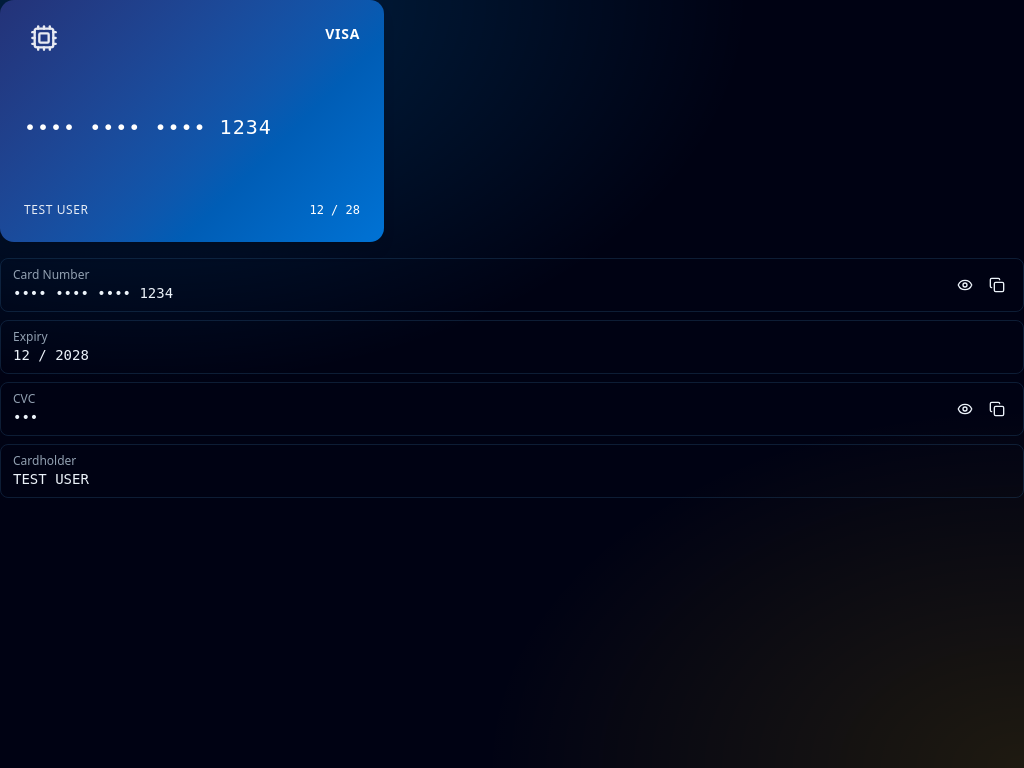
Scenario: CreditCardDetail › D4: unmount 시 카드번호 reveal 타이머 정리됨
The image size is (1024, 768).
Click the button named "reveal card number".
click(965, 285)  # box x1=951 y1=271 x2=979 y2=299
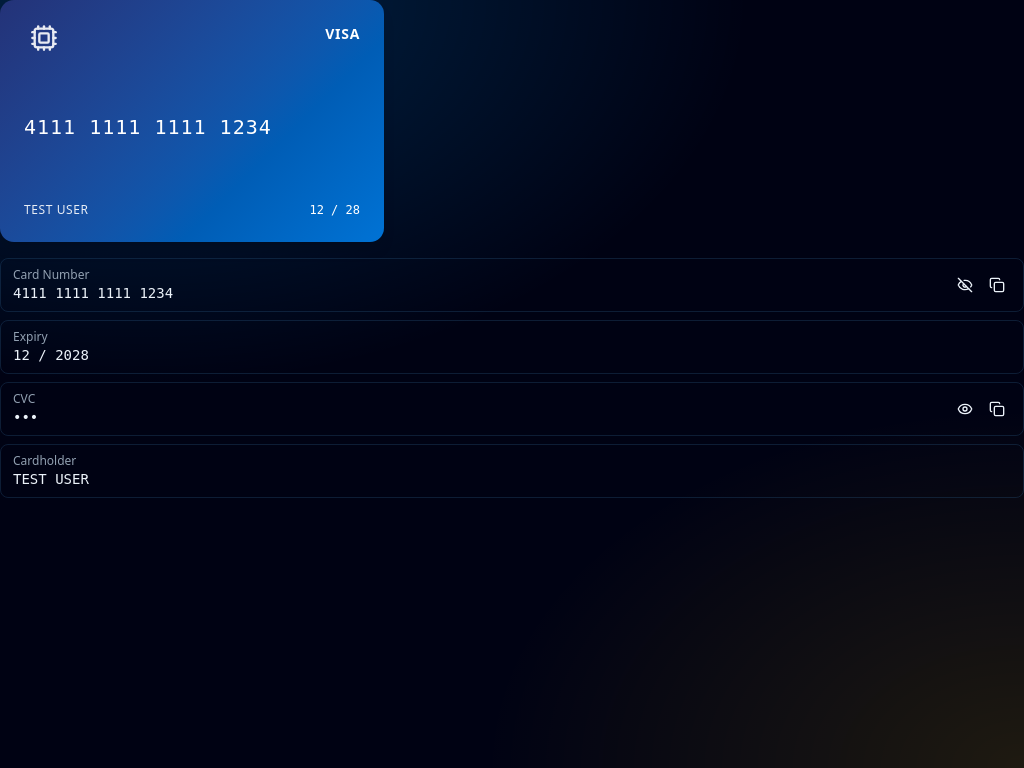
Expected: the 1st text "4111 1111 1111 1234" is shown, x1=24 y1=115 x2=272 y2=139
